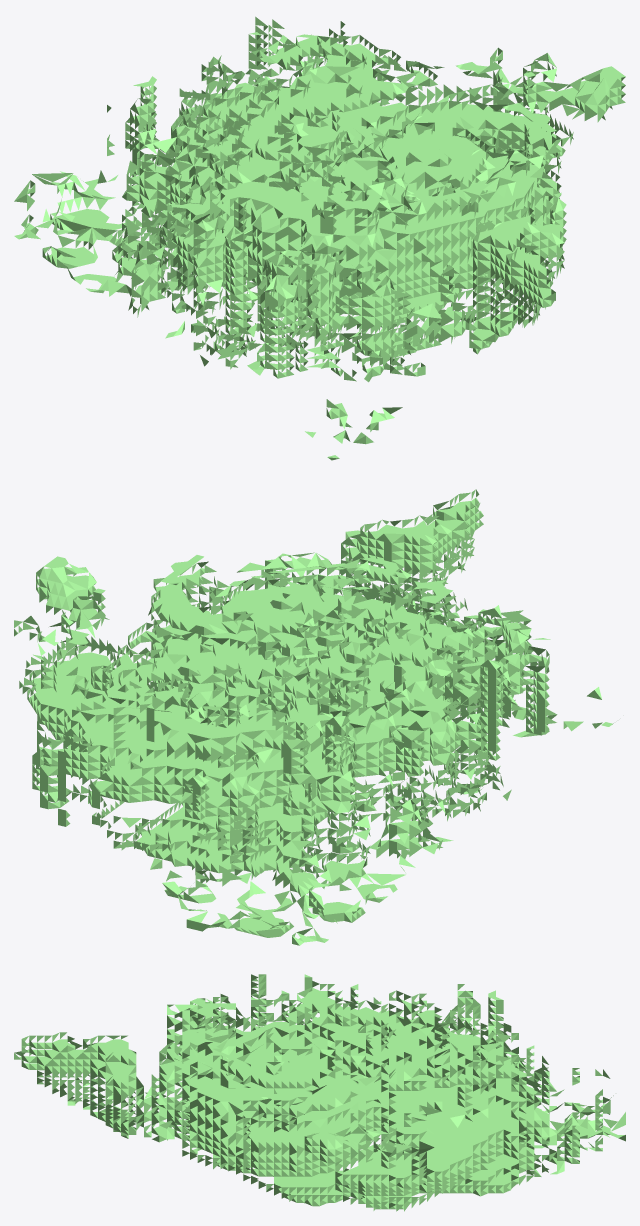
3 renders of one model, top to bottom at view 1: azimuth 30°, elevation 25°; view 2: azimuth 150°, elevation 25°; view 3: azimuth 270°, elevation 25°, orthographic. The views are drawn at different scales.
Visible parts, largest first — view 1: Default; view 2: Default; view 3: Default.
Boxes of the visible parts, bbox=[...] form: Default: bbox=[14, 16, 625, 460]; Default: bbox=[14, 489, 613, 945]; Default: bbox=[14, 974, 625, 1211].
Size of the model in its own units: 55 by 20 by 80.
